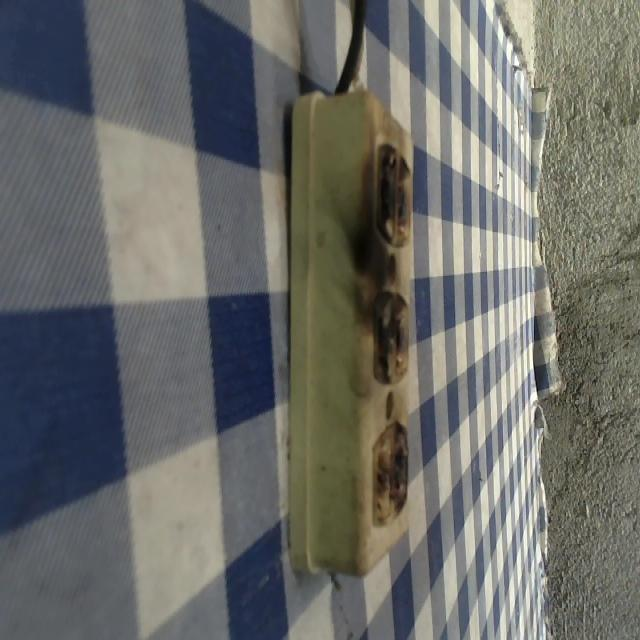-: (367, 416, 411, 525), (372, 136, 414, 244), (365, 285, 410, 384)
